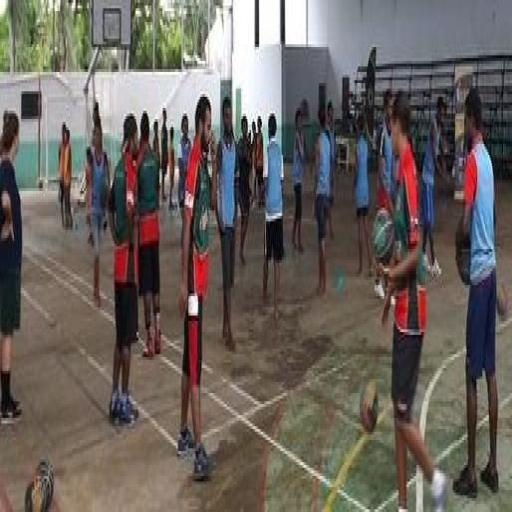person: (381, 92, 447, 511), (454, 89, 499, 498), (178, 97, 217, 481), (109, 114, 138, 426), (0, 111, 21, 423), (138, 111, 161, 357), (218, 97, 238, 351), (422, 97, 446, 276), (86, 125, 109, 307), (263, 114, 283, 321), (354, 114, 372, 276), (315, 108, 330, 296), (238, 117, 252, 265), (377, 89, 393, 213), (292, 108, 305, 251), (179, 114, 191, 221), (327, 103, 335, 240), (62, 128, 72, 229), (58, 125, 66, 226), (256, 117, 264, 207), (161, 108, 168, 202), (169, 125, 175, 210), (152, 120, 161, 168), (252, 120, 256, 207)
